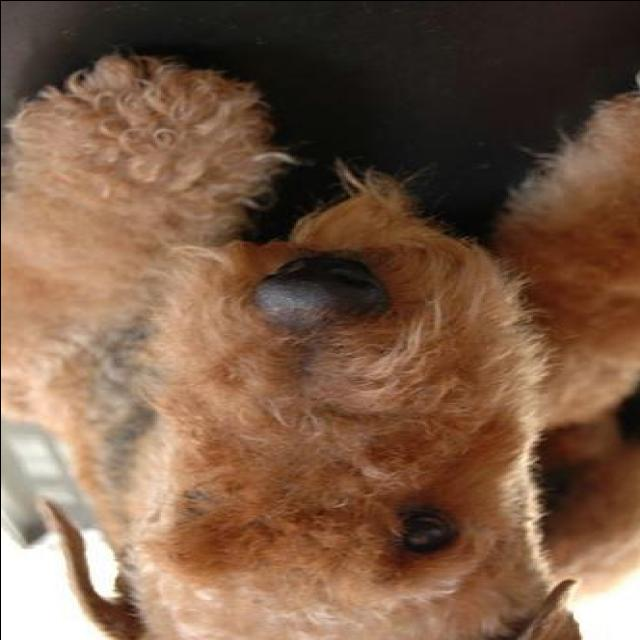airedale: (4, 51, 640, 640)
